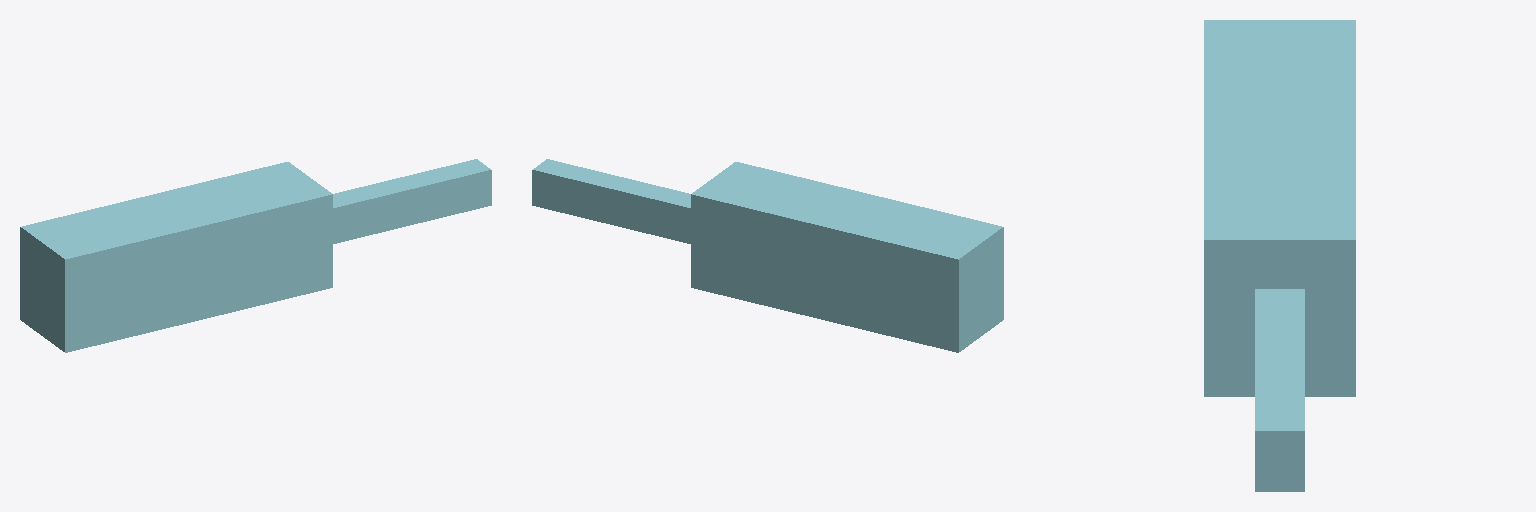
robot.urdf — cuboid_screwdriver_v2008:
<?xml version="1.0"?>
<robot name="cuboid_screwdriver_v2008">

  <link name="cuboid_screwdriver_v2008">
    <!-- Handle -->
    <visual>
      <origin xyz="0 0 0" rpy="0 0 0"/>
      <geometry>
        <box size="0.11021804578064853 0.03201072402332937 0.03677145173878281"/>
      </geometry>
      <material name="material">
        <color rgba="0.639 0.847 0.882 1.0"/>
      </material>
    </visual>
    <collision>
      <origin xyz="0 0 0" rpy="0 0 0"/>
      <geometry>
        <box size="0.11021804578064853 0.03201072402332937 0.03677145173878281"/>
      </geometry>
    </collision>

    <!-- Head -->
    <visual>
      <origin xyz="0.09082249424940378 0 0" rpy="0 0 0"/>
      <geometry>
        <box size="0.07142694271815903 0.010545719983828675 0.014147143074413681"/>
      </geometry>
      <material name="material">
        <color rgba="0.639 0.847 0.882 1.0"/>
      </material>
    </visual>
    <collision>
      <origin xyz="0.09082249424940378 0 0" rpy="0 0 0"/>
      <geometry>
        <box size="0.07142694271815903 0.010545719983828675 0.014147143074413681"/>
      </geometry>
    </collision>

    <inertial>
      <density value="400.0"/>
    </inertial>
  </link>

</robot>

--- Render facts (derived) ---
The picture shows the robot from 3 angles, left to right: view 1: azimuth 30°, elevation 25°; view 2: azimuth 150°, elevation 25°; view 3: azimuth 270°, elevation 25°; orthographic projection.
Model cuboid_screwdriver_v2008 with 1 links and 0 joints (none), rooted at cuboid_screwdriver_v2008, posed all joints at 0.
Visible links, largest first — view 1: cuboid_screwdriver_v2008; view 2: cuboid_screwdriver_v2008; view 3: cuboid_screwdriver_v2008.
Boxes of the visible links, <box> form: cuboid_screwdriver_v2008: <box>20,159,491,352</box>; cuboid_screwdriver_v2008: <box>532,159,1003,352</box>; cuboid_screwdriver_v2008: <box>1204,20,1355,491</box>.
Size in the robot's own frame: 0.1816 by 0.032 by 0.0368 metres.
Geometry: primitives only (box / cylinder / sphere), no mesh files.
